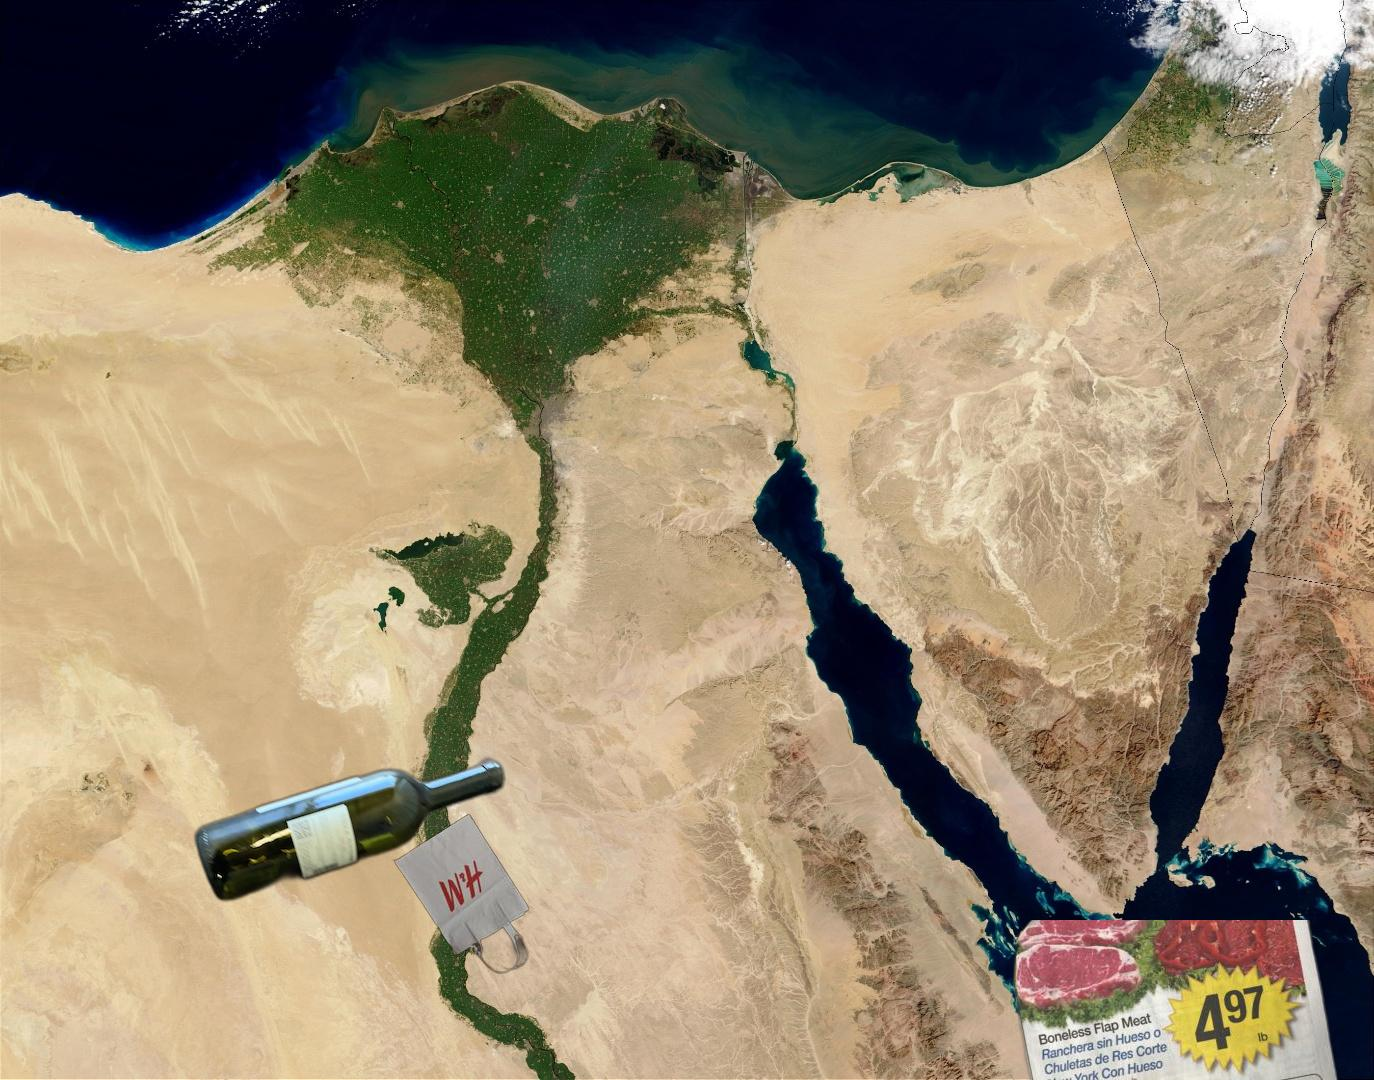glass: (190, 752, 509, 907)
paper: (966, 920, 1368, 1080)
paper-bag: (391, 812, 691, 1058)
